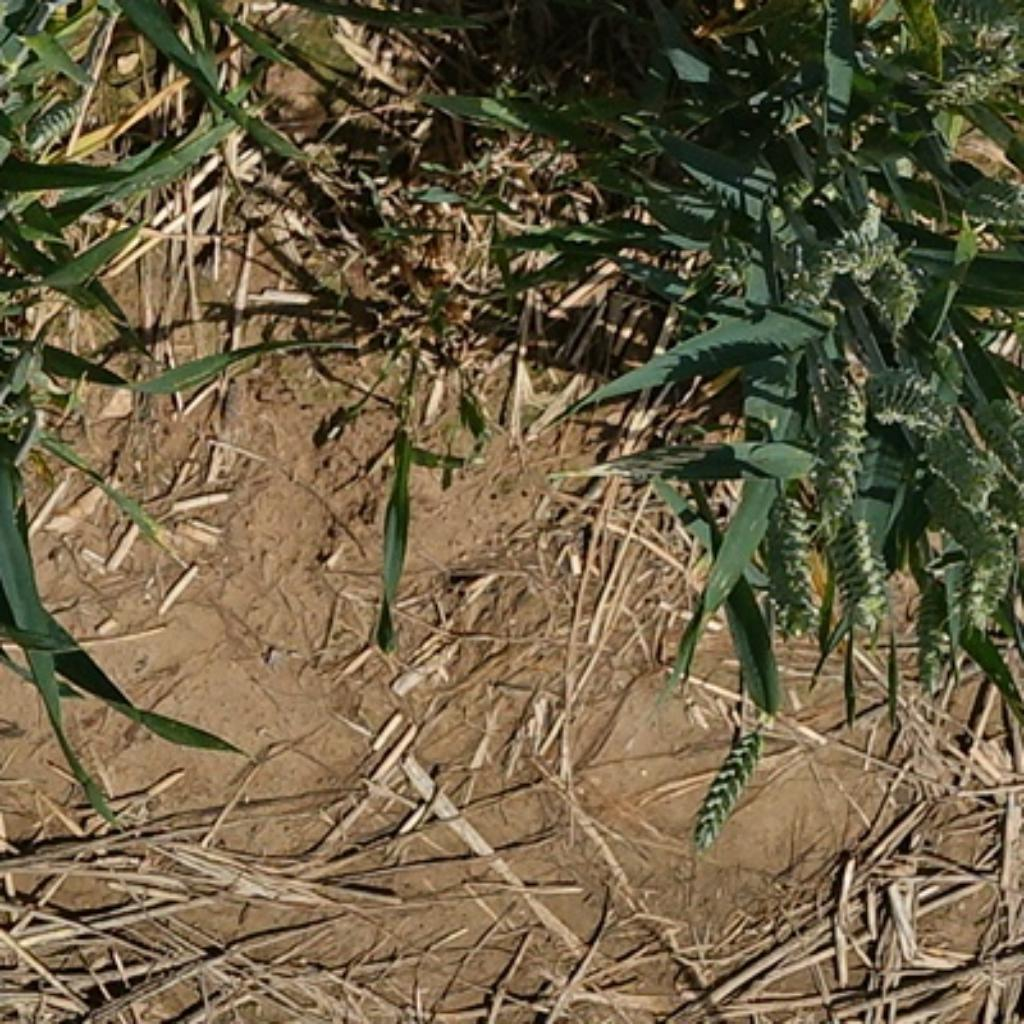0-0: (796, 355, 865, 519), (752, 483, 821, 627), (696, 719, 775, 842), (913, 432, 1024, 519), (921, 494, 1024, 581), (824, 501, 893, 629), (954, 532, 1024, 634), (862, 358, 952, 435), (773, 235, 855, 317), (936, 40, 1024, 110), (17, 92, 97, 161), (862, 243, 924, 330), (939, 183, 1024, 245), (832, 215, 898, 294), (913, 0, 1024, 46), (983, 381, 1024, 486), (1021, 5, 1024, 66)
